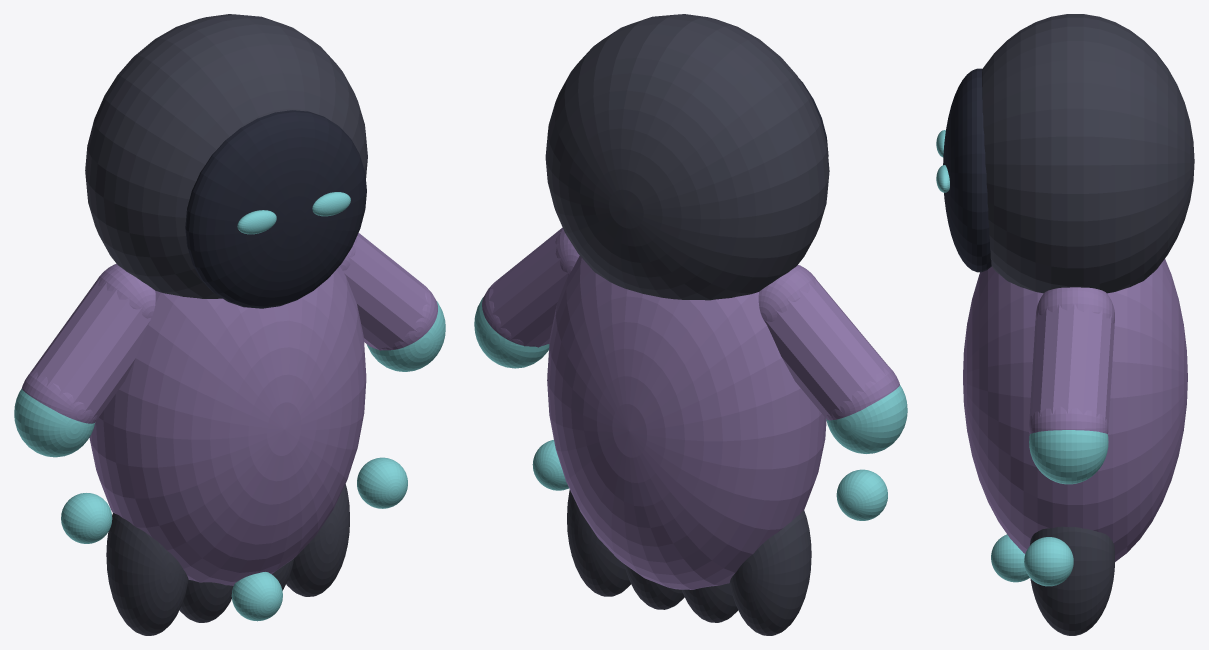
Rendered from monster_crypt_wraith.glb.
3 renders of one model, left to right at view 1: azimuth 30°, elevation 25°; view 2: azimuth 150°, elevation 25°; view 3: azimuth 270°, elevation 25°, orthographic. The views are drawn at different scales.
Visible parts, largest first — view 1: wraith_robe, wraith_hood, void_face, floating_sleeve_-1_shaft, robe_tatter_0, floating_sleeve_1_shaft, robe_tatter_3, wisp_hand_-1, soul_wisp_1, soul_wisp_0, soul_wisp_2, wisp_hand_1 (+6 smaller); view 2: wraith_robe, wraith_hood, floating_sleeve_-1_shaft, robe_tatter_0, floating_sleeve_1_shaft, wisp_hand_-1, robe_tatter_3, soul_wisp_0, wisp_hand_1, floating_sleeve_-1_capA, robe_tatter_1, floating_sleeve_-1_capB (+4 smaller); view 3: wraith_hood, wraith_robe, floating_sleeve_1_shaft, void_face, robe_tatter_3, wisp_hand_1, soul_wisp_1, floating_sleeve_1_capA, floating_sleeve_1_capB, soul_wisp_2.
Part boxes in pixels (x1=…): wraith_robe: x1=89, y1=266, x2=366, y2=585; wraith_hood: x1=85, y1=14, x2=367, y2=298; void_face: x1=185, y1=110, x2=366, y2=308; floating_sleeve_-1_shaft: x1=30, y1=278, x2=150, y2=422; robe_tatter_0: x1=106, y1=513, x2=188, y2=635; floating_sleeve_1_shaft: x1=343, y1=233, x2=429, y2=350; robe_tatter_3: x1=286, y1=484, x2=349, y2=596; wisp_hand_-1: x1=14, y1=388, x2=95, y2=457; soul_wisp_1: x1=357, y1=457, x2=407, y2=508; soul_wisp_0: x1=61, y1=493, x2=112, y2=543; soul_wisp_2: x1=231, y1=572, x2=282, y2=621; wisp_hand_1: x1=367, y1=301, x2=445, y2=371; wraith_robe: x1=547, y1=255, x2=826, y2=589; wraith_hood: x1=545, y1=14, x2=829, y2=300; floating_sleeve_-1_shaft: x1=764, y1=277, x2=890, y2=419; robe_tatter_0: x1=729, y1=510, x2=811, y2=635; floating_sleeve_1_shaft: x1=488, y1=227, x2=569, y2=347; wisp_hand_-1: x1=826, y1=385, x2=907, y2=453; robe_tatter_3: x1=567, y1=489, x2=630, y2=596; soul_wisp_0: x1=836, y1=469, x2=887, y2=520; wisp_hand_1: x1=474, y1=297, x2=549, y2=368; floating_sleeve_-1_capA: x1=758, y1=265, x2=818, y2=322; robe_tatter_1: x1=682, y1=583, x2=737, y2=622; floating_sleeve_-1_capB: x1=826, y1=365, x2=899, y2=420; wraith_hood: x1=982, y1=14, x2=1194, y2=293; wraith_robe: x1=963, y1=259, x2=1187, y2=561; floating_sleeve_1_shaft: x1=1029, y1=303, x2=1114, y2=428; void_face: x1=943, y1=68, x2=991, y2=272; robe_tatter_3: x1=1030, y1=526, x2=1114, y2=635; wisp_hand_1: x1=1029, y1=430, x2=1108, y2=484; soul_wisp_1: x1=1024, y1=537, x2=1073, y2=586; floating_sleeve_1_capA: x1=1035, y1=287, x2=1114, y2=323; floating_sleeve_1_capB: x1=1029, y1=406, x2=1108, y2=433; soul_wisp_2: x1=991, y1=534, x2=1029, y2=582.
Bounding box in the file's own units: 1.42 × 1.9 × 0.78.
